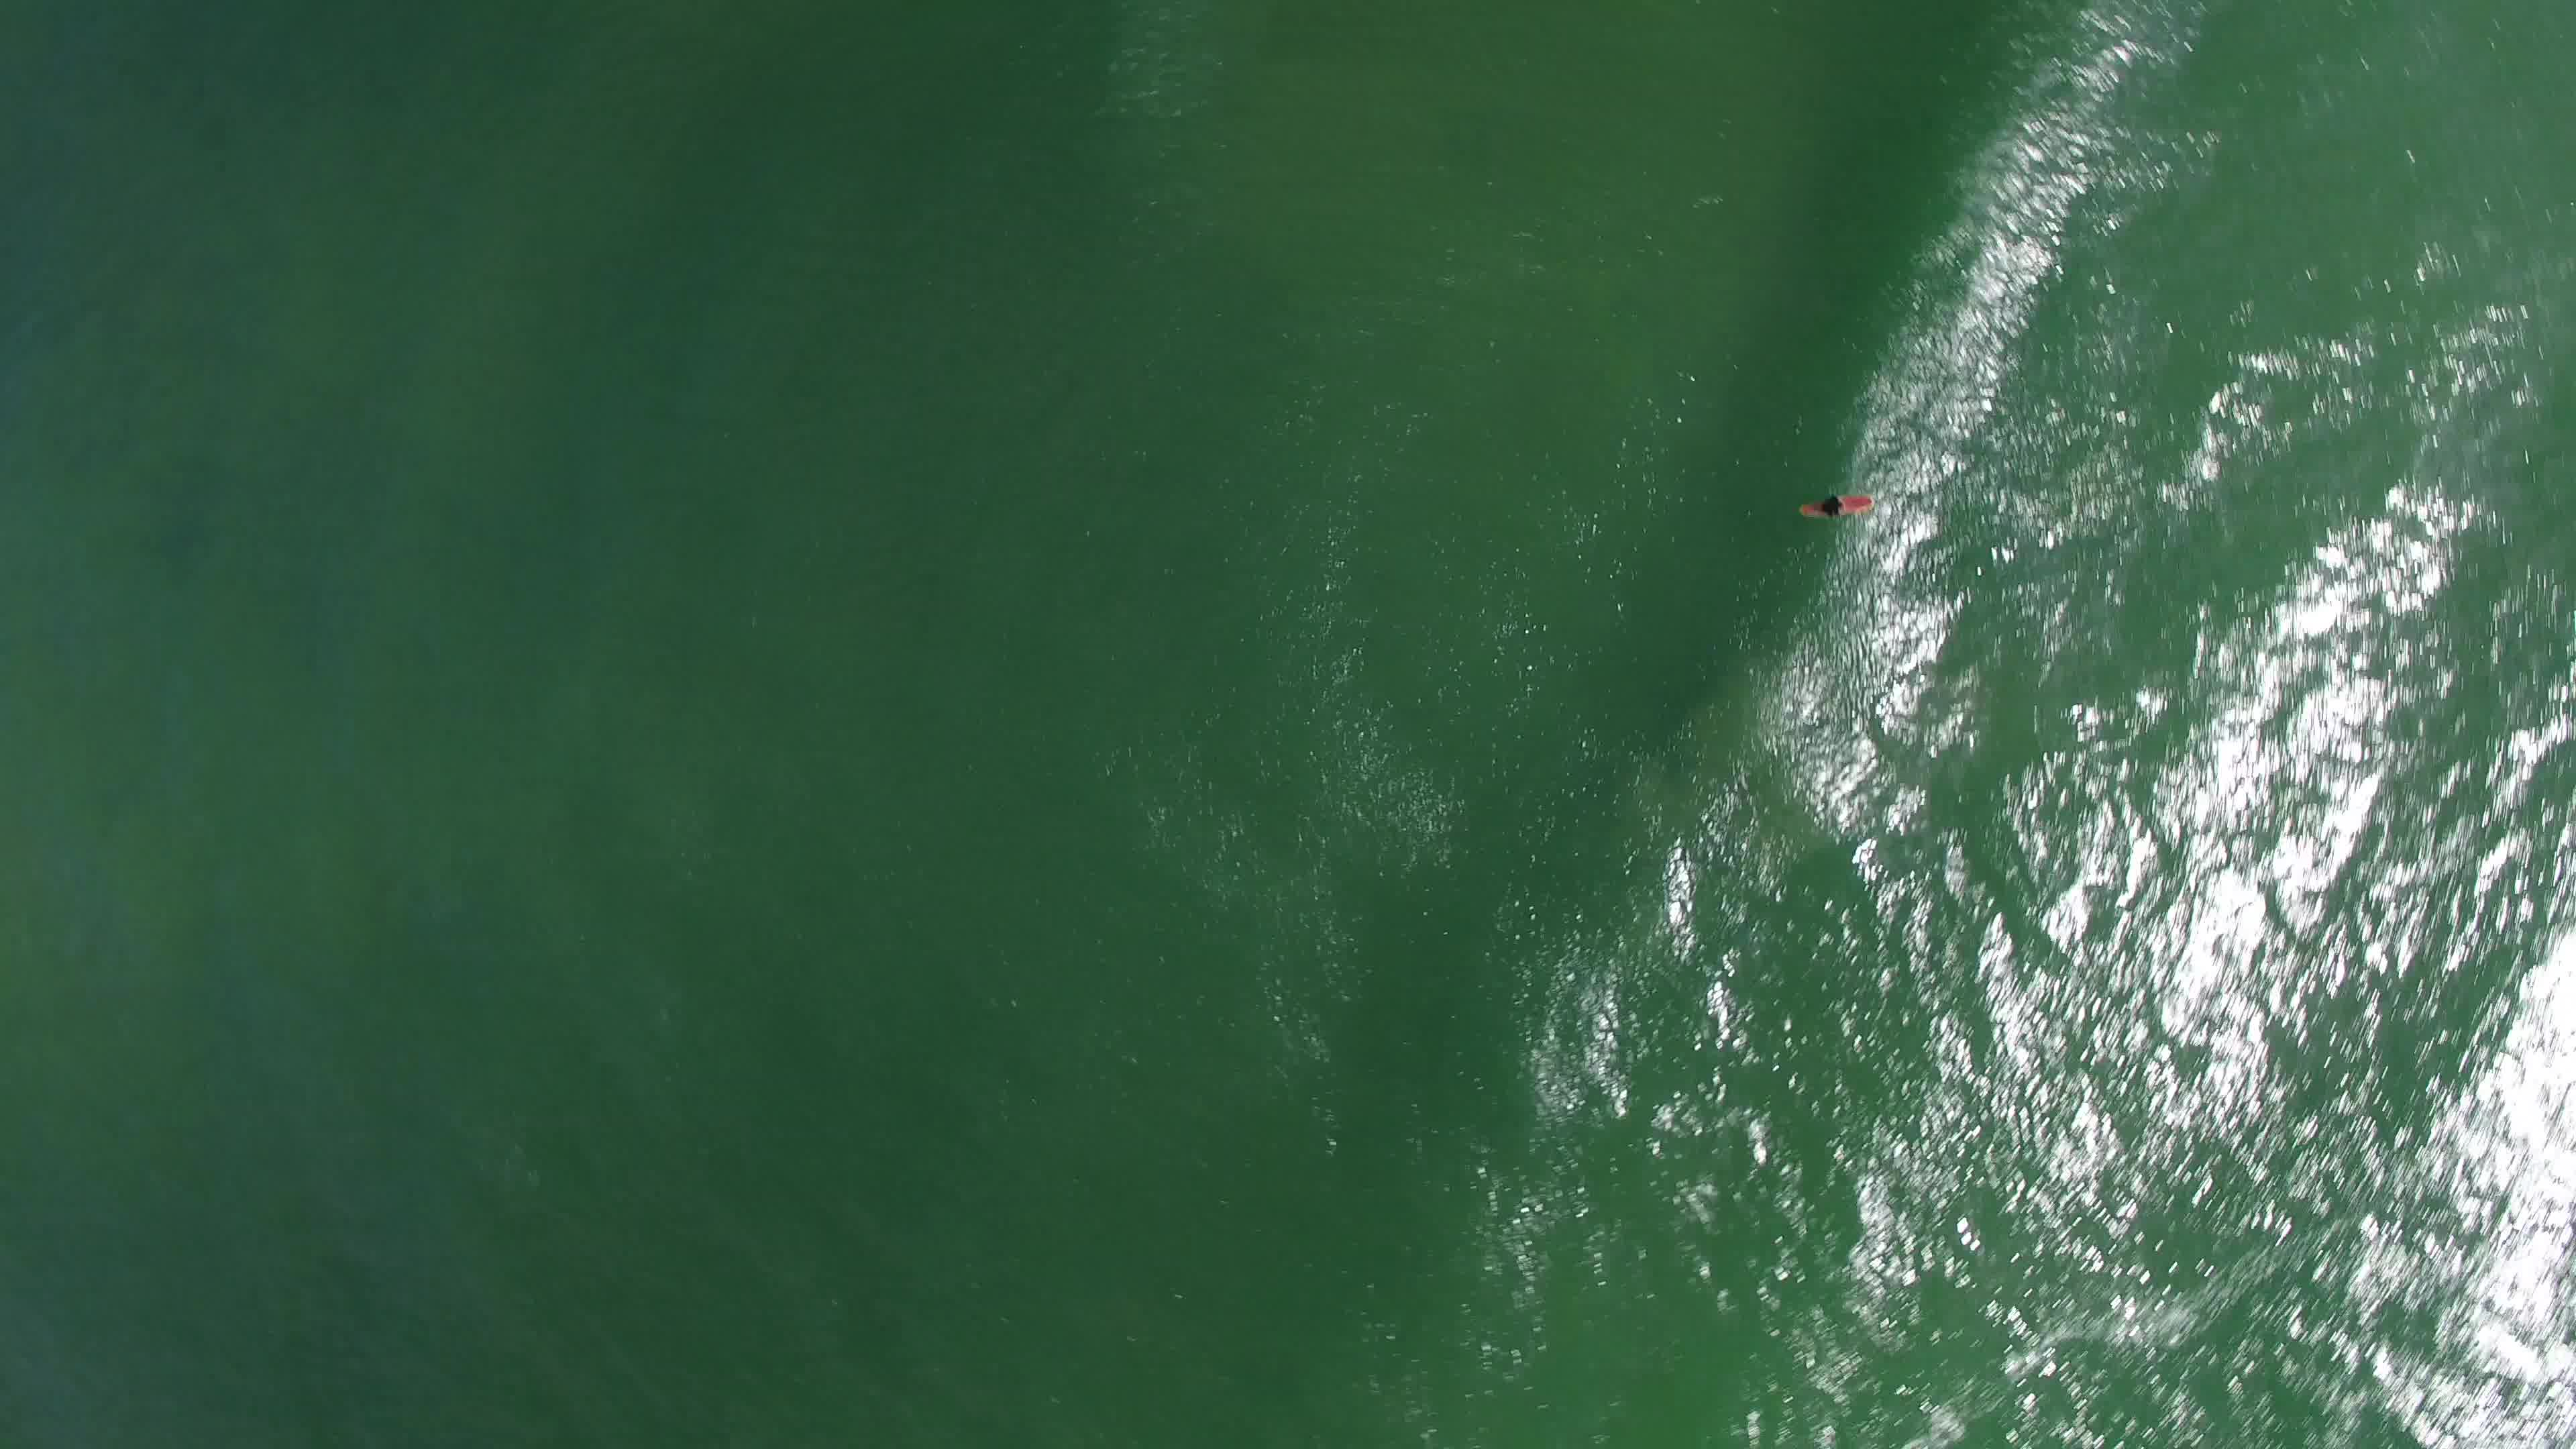surfer: (1796, 483, 1879, 531)
